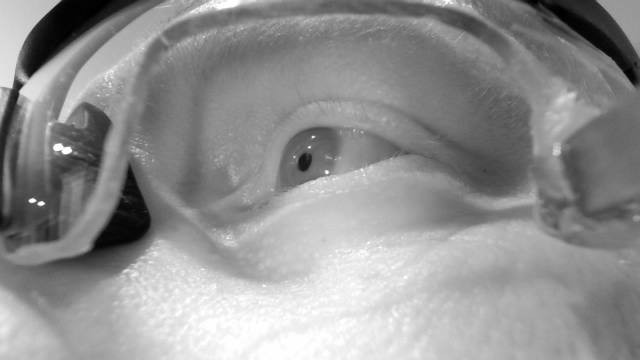pupil: (296, 151, 313, 173)
